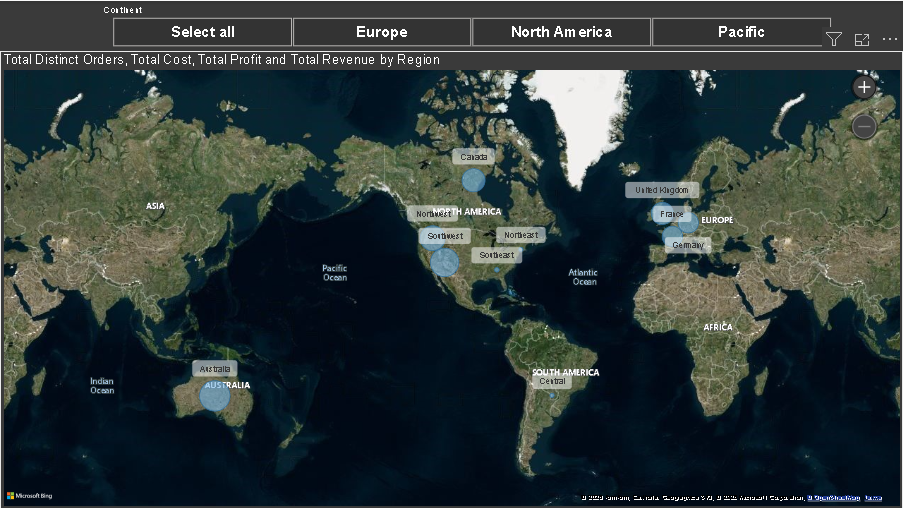

Layout of this report page (visuals, bound fields, positions):
{"tool":"powerbi","page":{"name":"Map","canvas":[1280,720],"ordinal":12},"visuals":[{"type":"slicer","fields":{"Values":["Territories_lookup.Continent"]},"box":[134.4,0,1066.7,70.6],"z":0},{"type":"map","fields":{"Size":["Sales Data.Total Distinct Orders"],"Category":["Territories_lookup.Continent"]},"box":[0,70.6,1280,650.1],"z":1000}]}

Visuals, with their boxes in screenshot pixels (x1, y1, x2, y2), scaled from the page's 1280x720 canvas onto the 903x508 screenshot:
slicer - Territories_lookup.Continent: left=95, top=0, right=847, bottom=50
map - Sales Data.Total Distinct Orders x Territories_lookup.Continent: left=0, top=50, right=902, bottom=507
